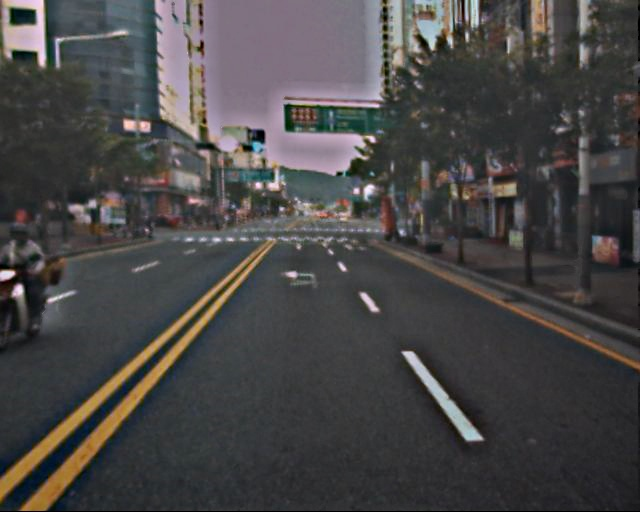person: (12, 200, 45, 246), (33, 202, 56, 243)
